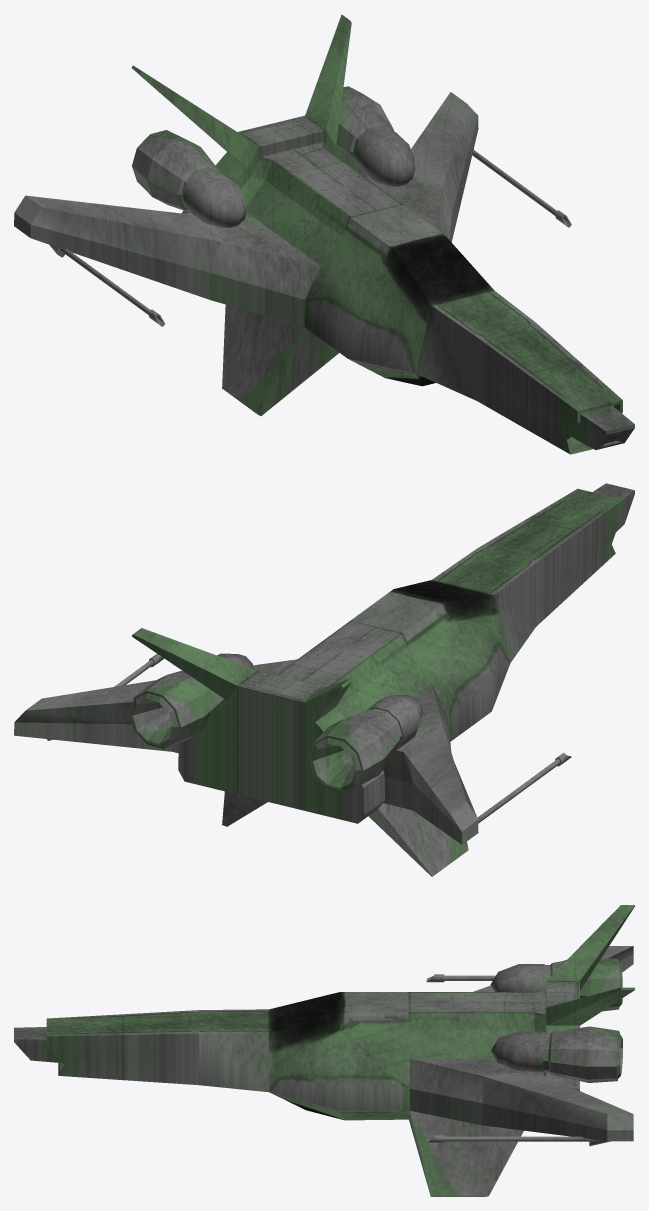
Rendered from fighter1.FBX.
3 views of the same model, one above another, from view 1: azimuth 30°, elevation 25°; view 2: azimuth 150°, elevation 25°; view 3: azimuth 270°, elevation 25° (orthographic). The views are drawn at different scales.
Parts seen in each view (by area): view 1: pew_pew:Cylinder002; view 2: pew_pew:Cylinder002; view 3: pew_pew:Cylinder002.
Part boxes in pixels (x1=…): pew_pew:Cylinder002: x1=14, y1=14, x2=634, y2=454; pew_pew:Cylinder002: x1=14, y1=483, x2=634, y2=876; pew_pew:Cylinder002: x1=14, y1=905, x2=634, y2=1196.
Bounding box in the file's own units: 309 × 171 × 457.
1 material, 1 textured.
